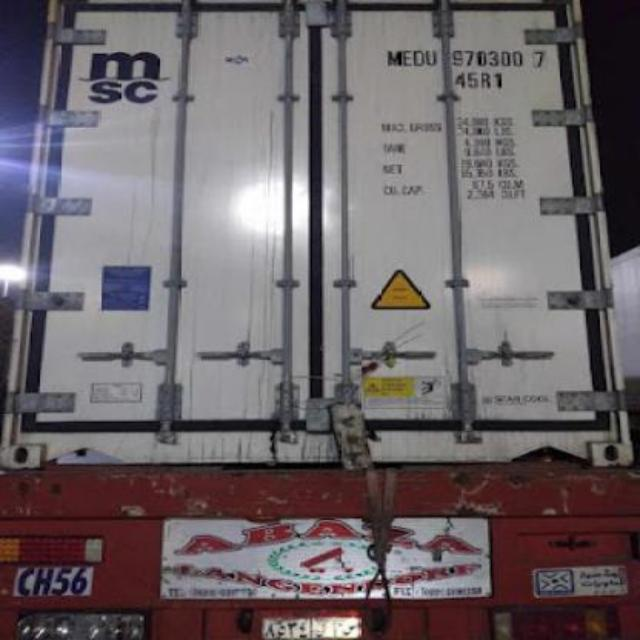0: (512, 50, 528, 66), (476, 48, 488, 68), (498, 50, 512, 66)
3: (488, 49, 500, 65)
7: (464, 48, 476, 68), (532, 50, 546, 66)
9: (452, 49, 464, 65)
D: (412, 50, 426, 66)
E: (402, 50, 414, 66)
M: (386, 50, 402, 66)
U: (426, 50, 438, 66)
